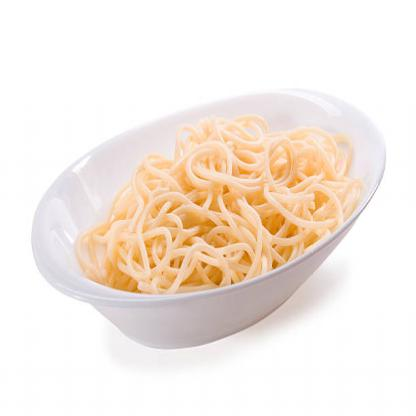Noodles: (74, 115, 362, 296)
